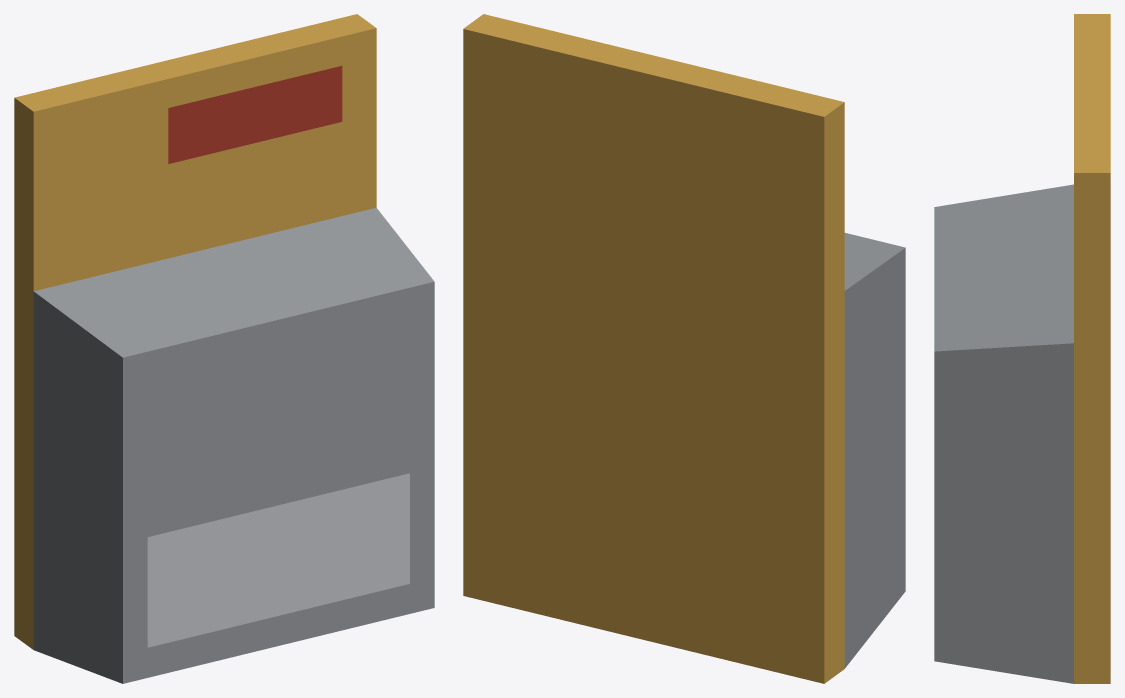
The model's file is SM_Item_Nails_01.fbx.
3 renders of one model, left to right at view 1: azimuth 30°, elevation 25°; view 2: azimuth 150°, elevation 25°; view 3: azimuth 270°, elevation 25°, orthographic. The views are drawn at different scales.
Parts seen in each view (by area): view 1: SM_Item_Nails_01; view 2: SM_Item_Nails_01; view 3: SM_Item_Nails_01.
Part boxes in pixels (x1,y1,x2,y2): SM_Item_Nails_01: (14, 14, 434, 683); SM_Item_Nails_01: (463, 14, 905, 683); SM_Item_Nails_01: (934, 14, 1110, 683).
Size of the model in its own units: 13.88 by 20.83 by 6.52.
